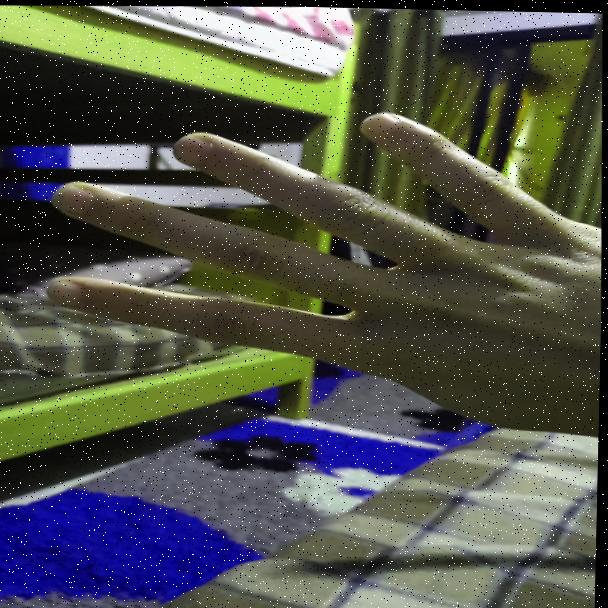four: (17, 90, 597, 442)
